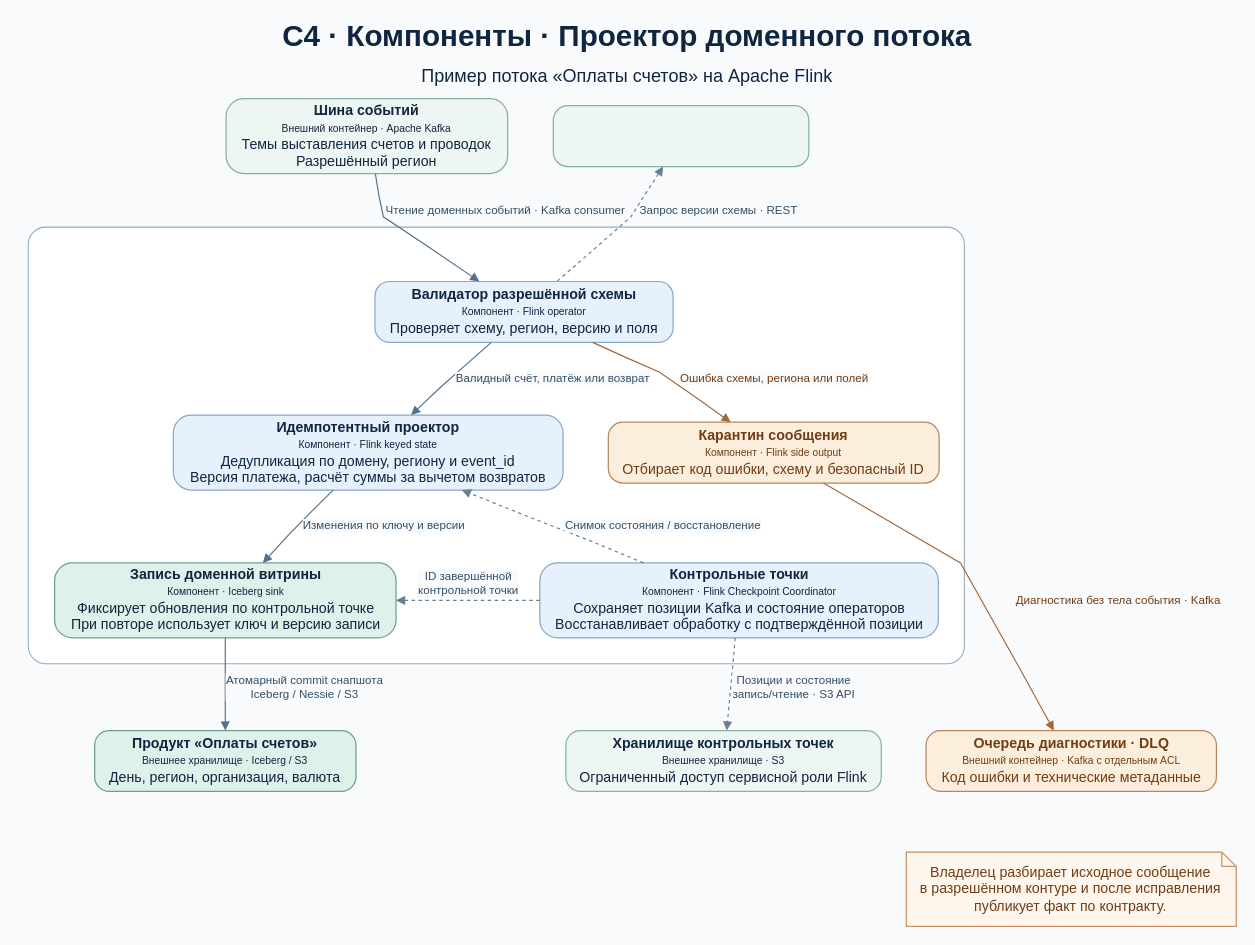
This 1255x945 diagram has some shape labels left out. Here are the shapes that lost their labels. From the top down, the box of each, then its label:
(552, 105, 809, 167): Реестр схем Внешний контейнер · Schema Registry Версии схем и разрешённые поля
(27, 226, 964, 664): Проектор доменного потока · Flink
